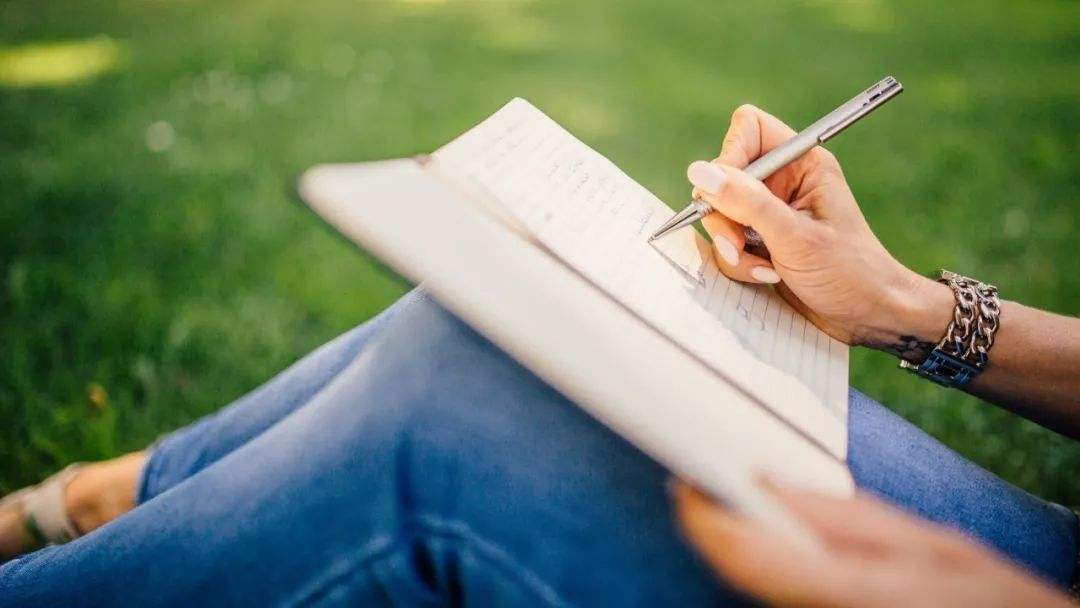book: (280, 68, 957, 553)
